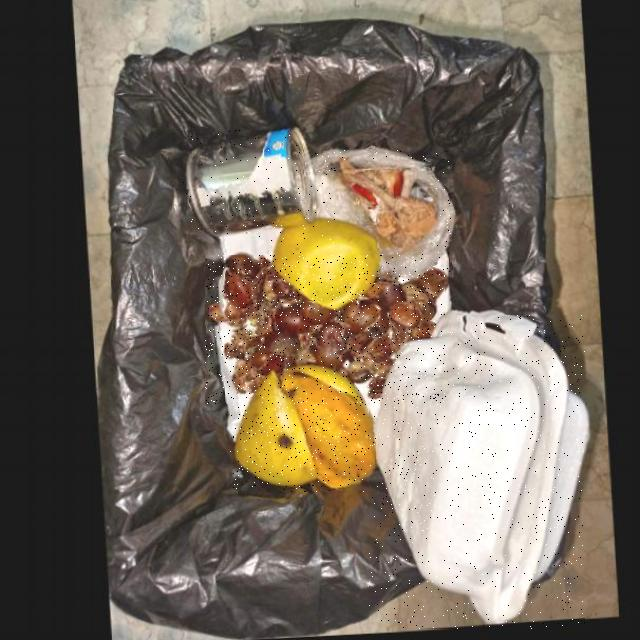biowaste: (206, 255, 445, 404), (278, 369, 370, 492), (269, 221, 377, 314), (230, 374, 312, 489), (337, 161, 435, 253)
metal: (184, 131, 315, 239)
plastic: (310, 150, 451, 284)
styrofoam: (370, 316, 585, 629)
